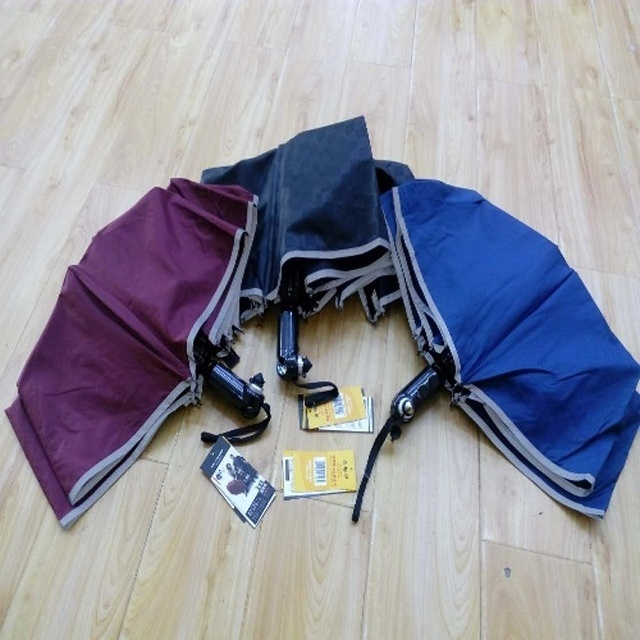umbrella: (1, 175, 269, 530), (380, 177, 640, 528), (202, 116, 413, 388)
